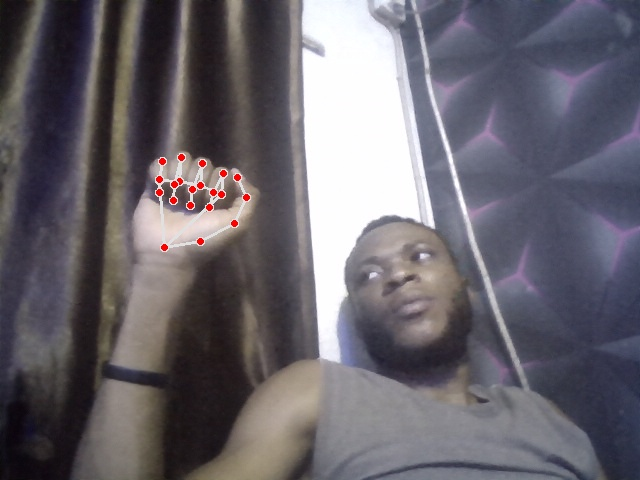number0: (131, 150, 261, 265)
